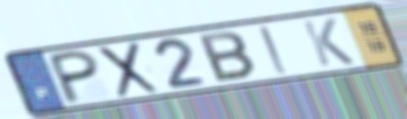2: (152, 36, 214, 92)
B: (195, 30, 258, 85)
I: (255, 24, 293, 77)
K: (299, 16, 358, 68)
P: (47, 48, 101, 107)
X: (95, 39, 162, 101)
